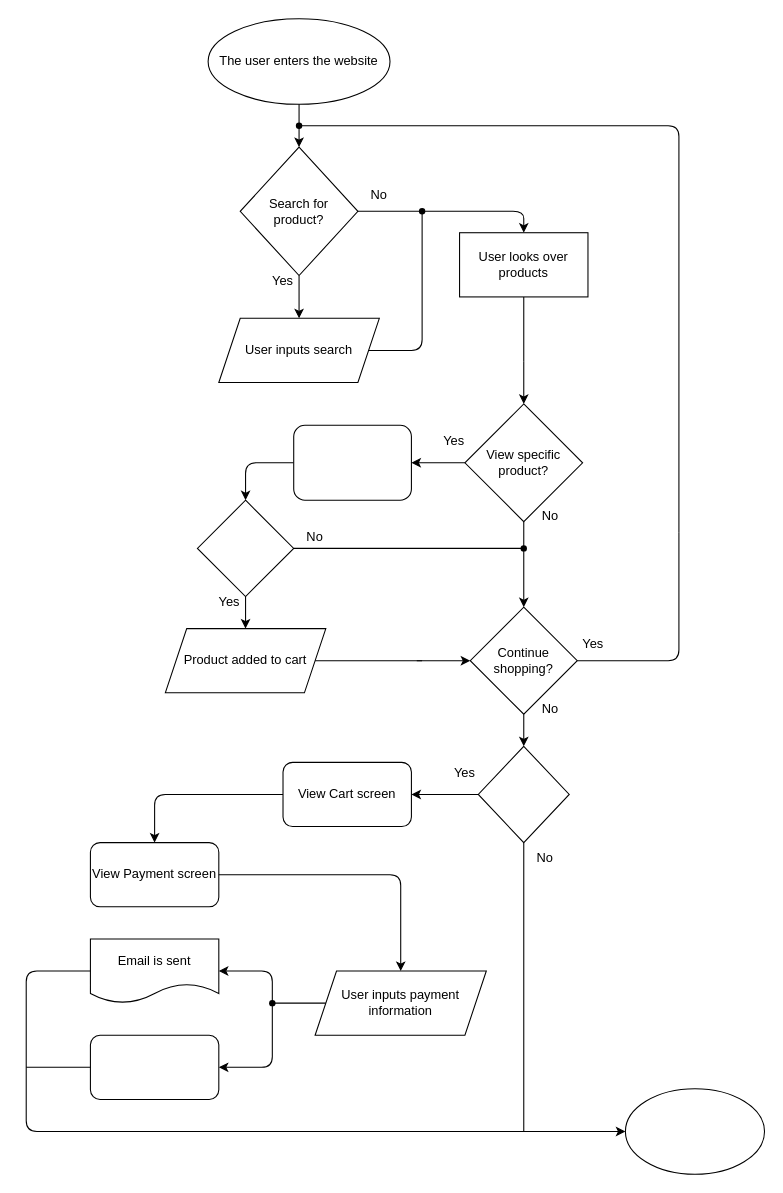
This 783x1193 diagram has some shape labels left out. The shapes that lost their labels are listed below. From the top down, each one's centre as x and y in pixels, then its label:
At [352,462]: "Product's webpage opens".
At [245,548]: "Add to cart?".
At [523,794]: "Check out?".
At [154,1066]: "Order confirmation screen".
At [694,1131]: "User leaves website".
